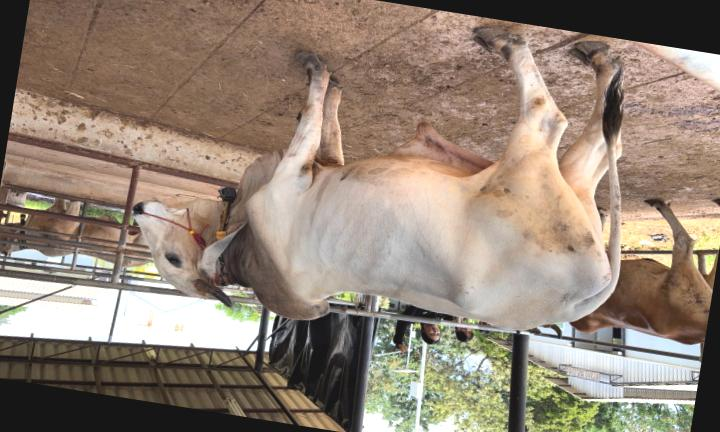Brahman: (135, 28, 623, 329)
